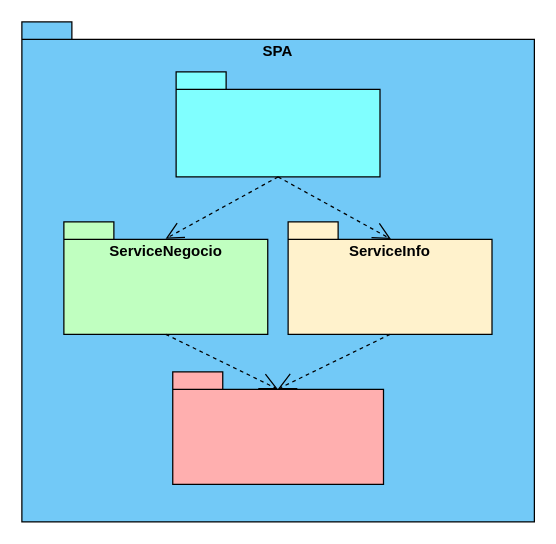
Image size: 556x544. Some labels were removed from this diagram. Here are the shapes that lost their labels. From the top down, the centre of each, then its label:
At (277,124): "App".
At (278,427): "DataModel".
